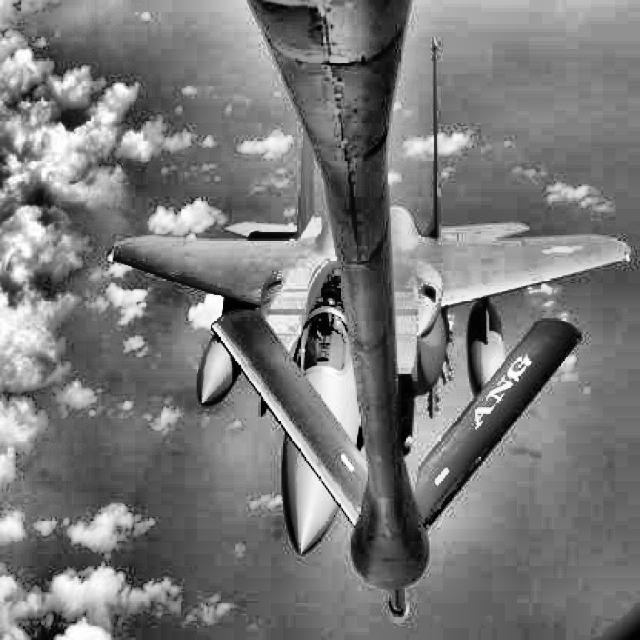F15: (107, 40, 631, 555)
